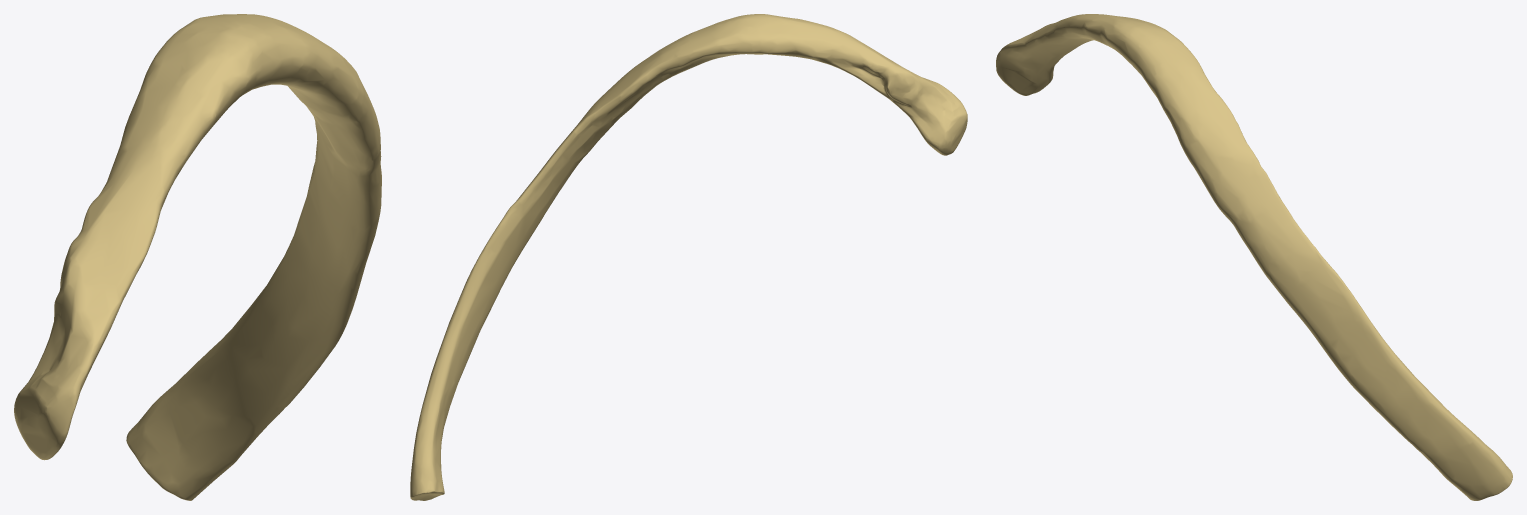
The picture shows the model from 3 angles, left to right: view 1: azimuth 30°, elevation 25°; view 2: azimuth 150°, elevation 25°; view 3: azimuth 270°, elevation 25°; orthographic projection. The views are drawn at different scales.
Visible parts, largest first — view 1: 左侧第九肋; view 2: 左侧第九肋; view 3: 左侧第九肋.
Part boxes in pixels (x1,y1,x2,y2): 左侧第九肋: (14, 14, 381, 500); 左侧第九肋: (410, 14, 967, 500); 左侧第九肋: (996, 14, 1512, 500).
Size of the model in its own units: 0.1698 by 0.1951 by 0.2286.
